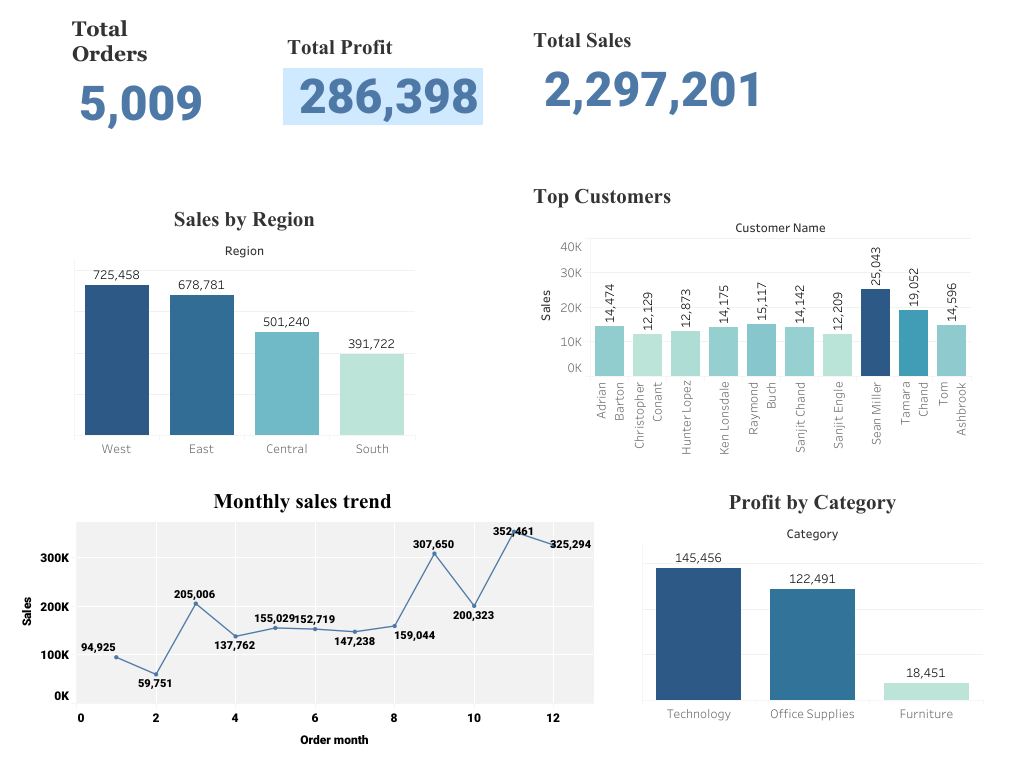

The dashboard page shown, as its layout file describes it:
{"tool":"tableau","page":{"name":"Dashboard 1","canvas":[1024,768],"ordinal":0},"visuals":[{"type":"text","box":[8,8,1008,752]},{"type":"worksheet","title":"Total Orders","mark":"Automatic","box":[68,10,213,127]},{"type":"worksheet","title":"Total Sales","mark":"Automatic","box":[529,22,254,125]},{"type":"worksheet","title":"Total Profit","mark":"Automatic","box":[283,29,213,125]},{"type":"worksheet","title":"Top Customers","mark":"Bar","rows":["Sales"],"cols":["Customer Name"],"box":[529,178,442,278]},{"type":"worksheet","title":"Sales by Region","mark":"Bar","rows":["Sales"],"cols":["Region"],"box":[74,201,341,256]},{"type":"worksheet","title":"Monthly sales trend","mark":"Automatic","rows":["Sales"],"cols":["Order_month"],"box":[12,483,581,271]},{"type":"worksheet","title":"Profit by Category","mark":"Automatic","rows":["Profit"],"cols":["Category"],"box":[642,484,341,256]}]}

Visuals, with their boxes in screenshot pixels (x1, y1, x2, y2), scaled from the page's 1024x768 canvas onto the 1023x767 screenshot:
text: BBox(8, 8, 1015, 759)
"Total Orders" worksheet: BBox(68, 10, 281, 137)
"Total Sales" worksheet: BBox(528, 22, 782, 147)
"Total Profit" worksheet: BBox(283, 29, 496, 154)
"Top Customers" worksheet (Bar marks): BBox(528, 178, 970, 455)
"Sales by Region" worksheet (Bar marks): BBox(74, 201, 415, 456)
"Monthly sales trend" worksheet: BBox(12, 482, 592, 753)
"Profit by Category" worksheet: BBox(641, 483, 982, 739)
